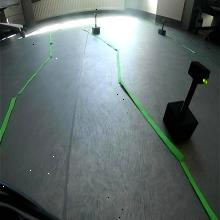green: (189, 61, 210, 85)
